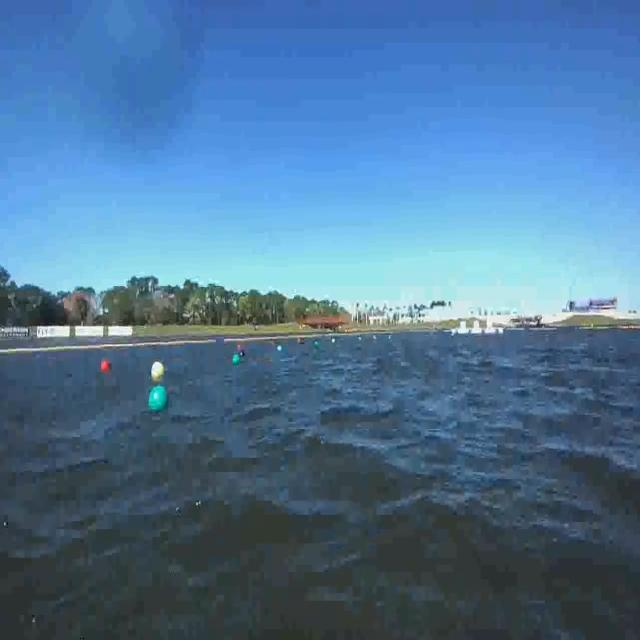green-buoy: (149, 384, 168, 412), (231, 352, 241, 367)
red-buoy: (102, 360, 111, 372)
yellow-buoy: (151, 354, 166, 382)
